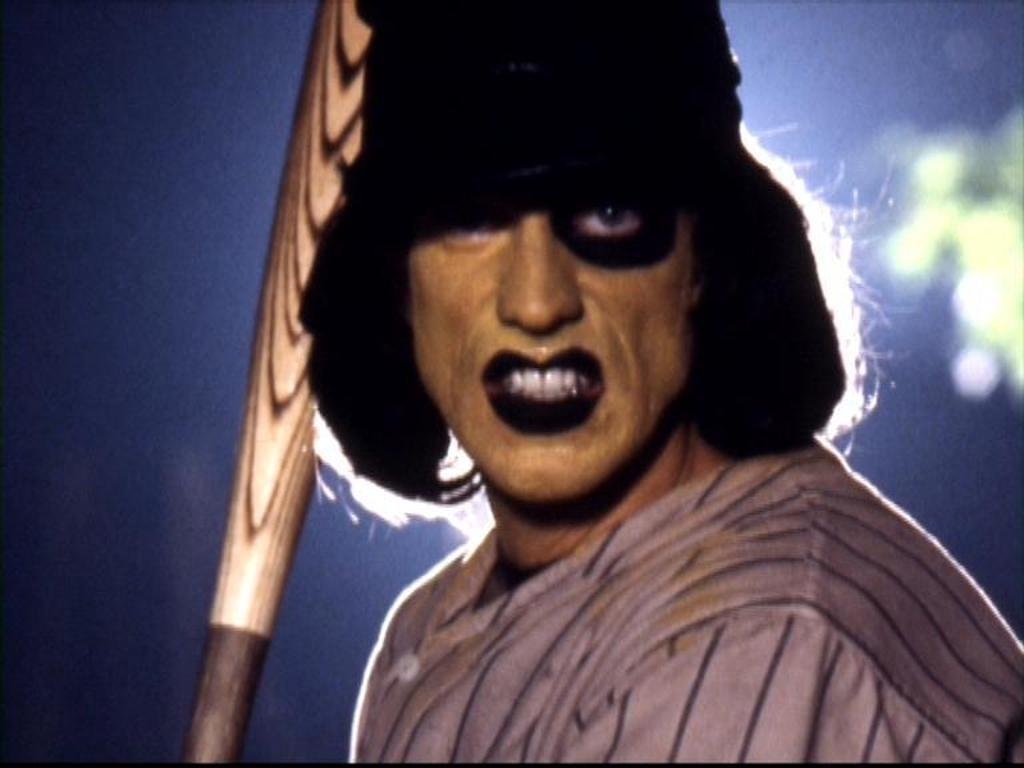face: (407, 79, 699, 487)
